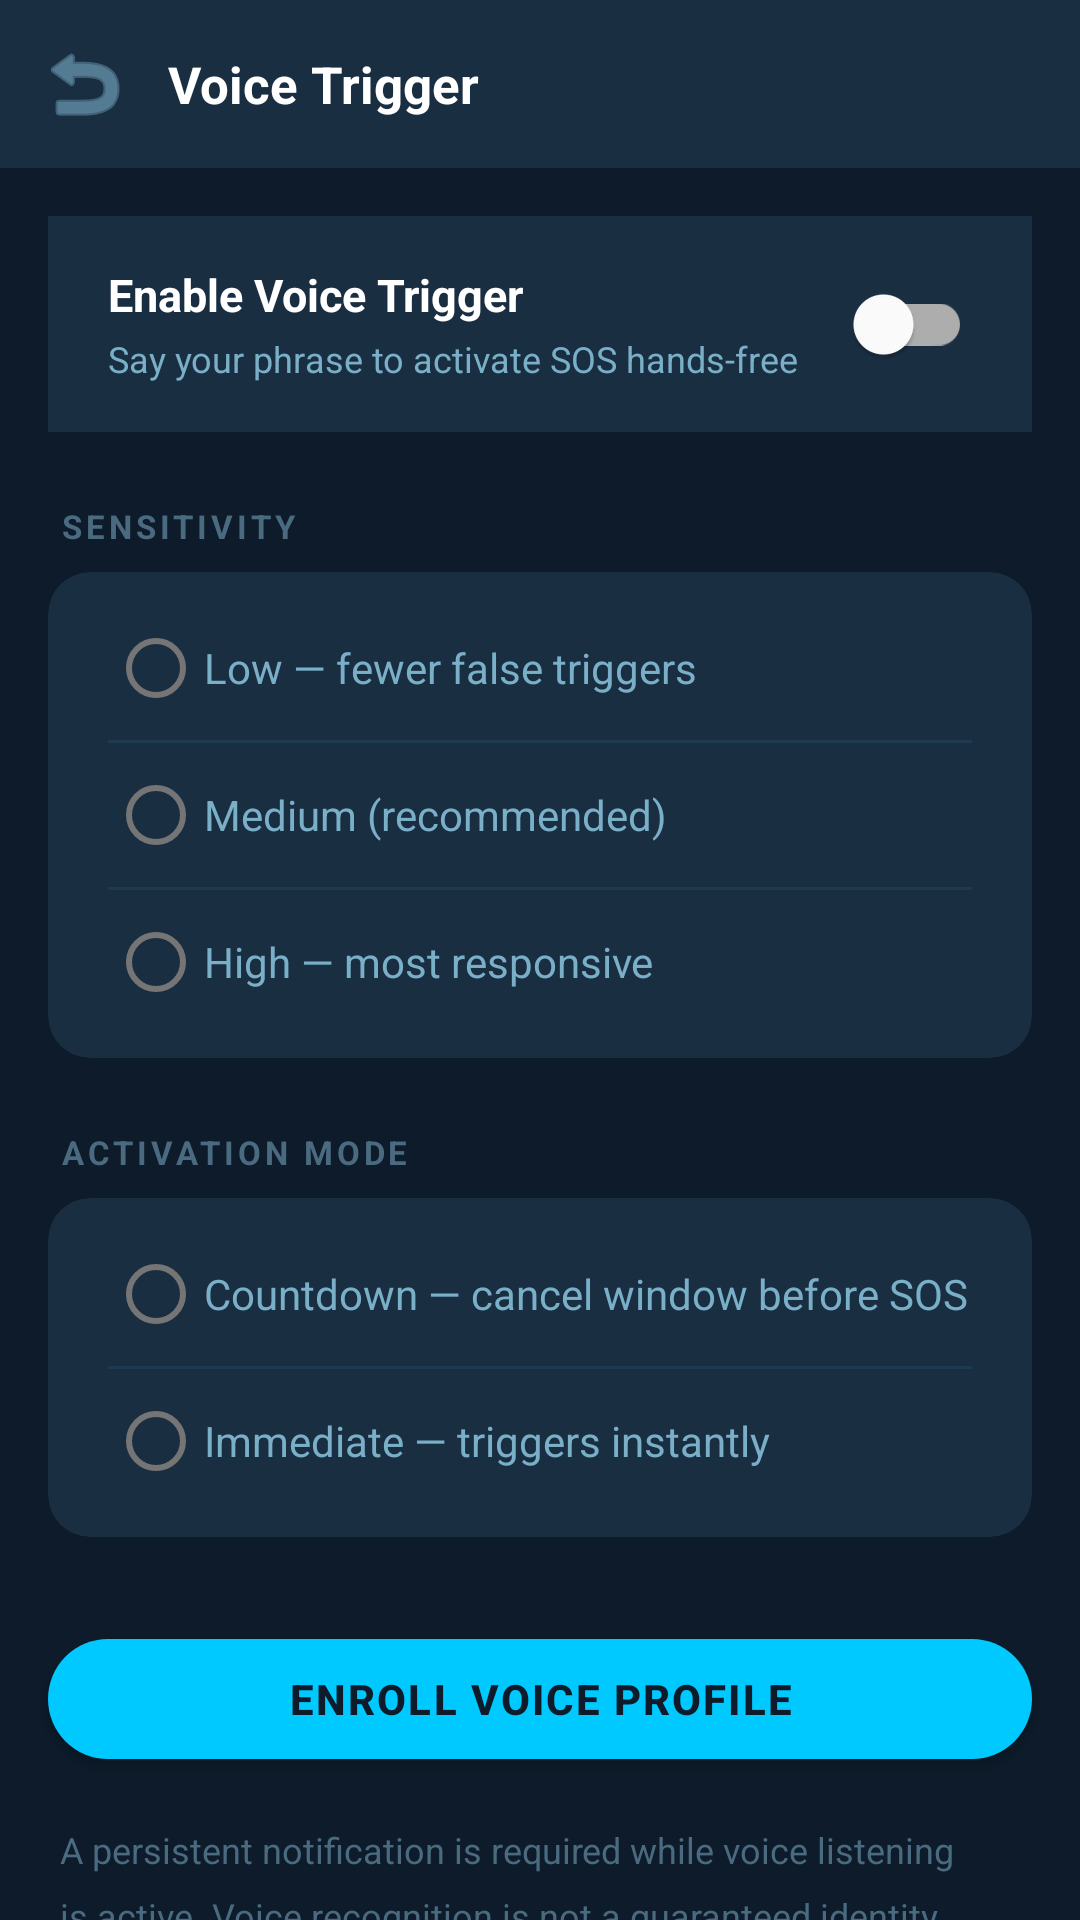

Locate icon controls on the screen. Image size 1080x1920, boxes as (x1, y1, x2, y2).
revert: (51, 54, 120, 116)
